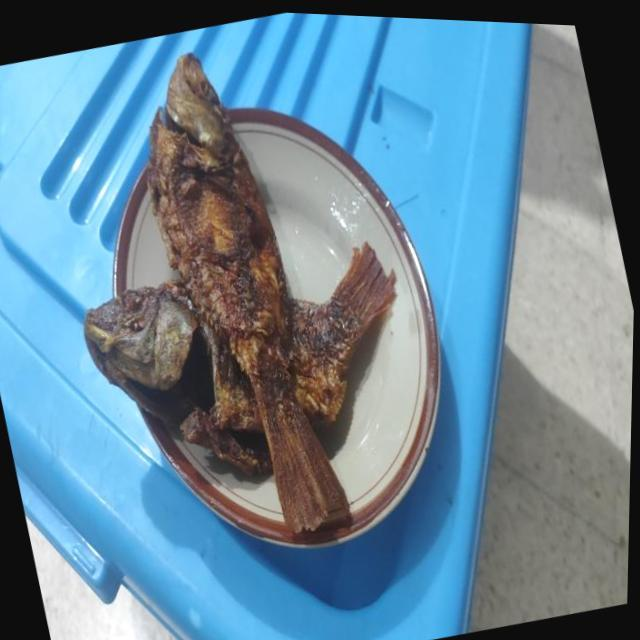ikan_mujair: (146, 53, 350, 532), (83, 244, 394, 468)
